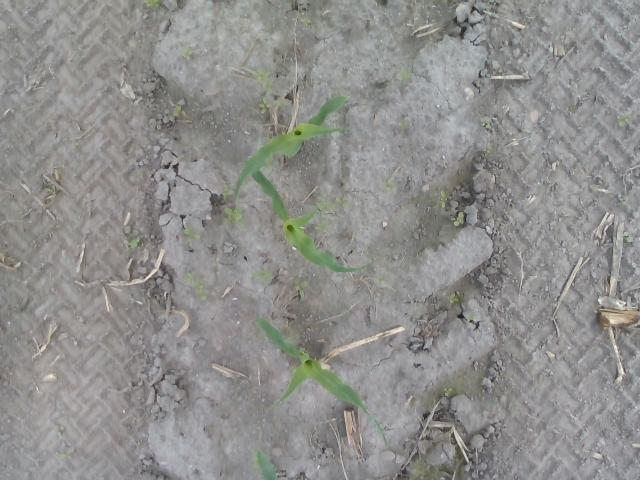Maize: (253, 316, 388, 448), (244, 160, 380, 274), (232, 94, 352, 207), (252, 448, 284, 480)
Weeds: (253, 70, 291, 116), (316, 194, 350, 232), (184, 274, 210, 301), (56, 426, 72, 461), (224, 206, 244, 226), (182, 226, 202, 242), (392, 70, 413, 84), (294, 279, 308, 297), (252, 270, 272, 282), (124, 236, 139, 252), (172, 106, 188, 121), (382, 178, 397, 194), (479, 116, 494, 130), (616, 115, 631, 128), (376, 274, 392, 286), (452, 211, 465, 225), (224, 186, 236, 201), (182, 48, 194, 62), (622, 231, 634, 245), (439, 191, 448, 209), (300, 16, 314, 26), (46, 186, 59, 196), (449, 293, 459, 306), (484, 147, 494, 158), (444, 386, 453, 398), (148, 0, 160, 8), (138, 173, 146, 182), (399, 120, 408, 128)
